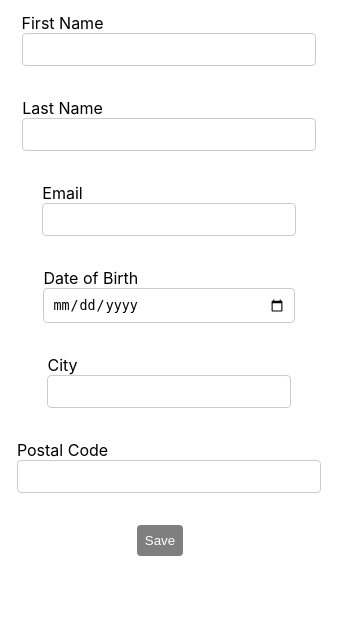
Test: RegistrationForm Component › affiche un message de succès après soumission réussie
In the field labelled "First Name": (169, 50) [22,33,316,66], type "John"
In the field labelled "Last Name": (169, 134) [22,118,316,151], type "Doe"
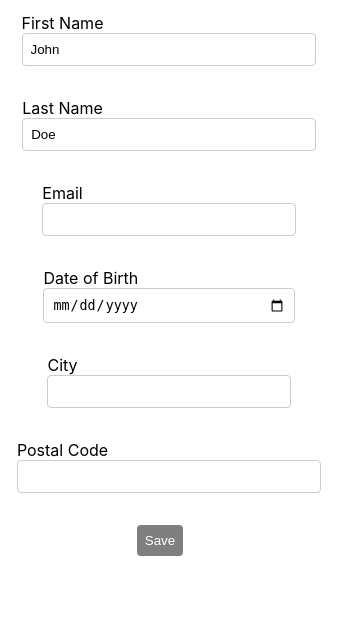
In the field labelled "Email": (169, 220) [42,203,296,236], type "john.doe@example.com"
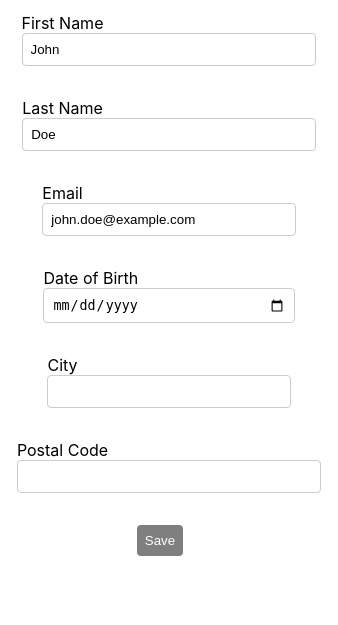
In the date field labelled "Date of Birth": (169, 306) [44,288,295,323], type "1990-01-01"
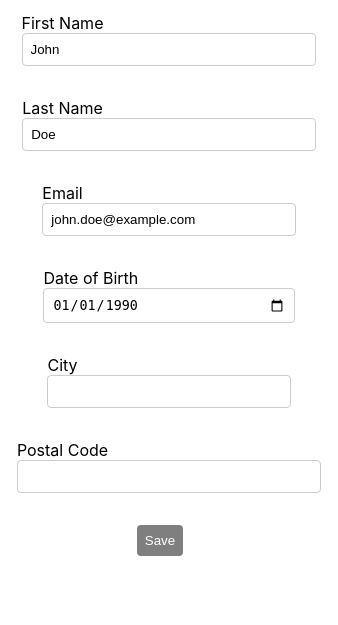
In the field labelled "City": (169, 392) [47,375,290,408], type "Paris"
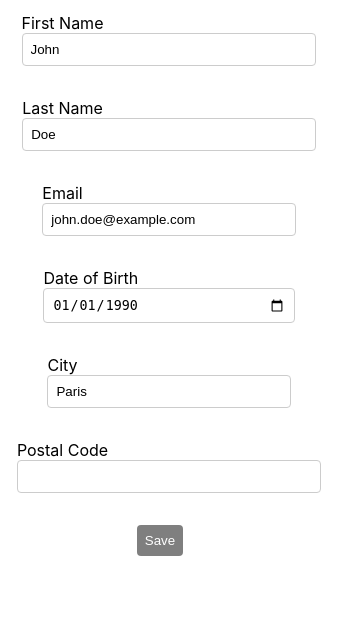
In the field labelled "Postal Code": (169, 477) [17,460,321,493], type "75000"
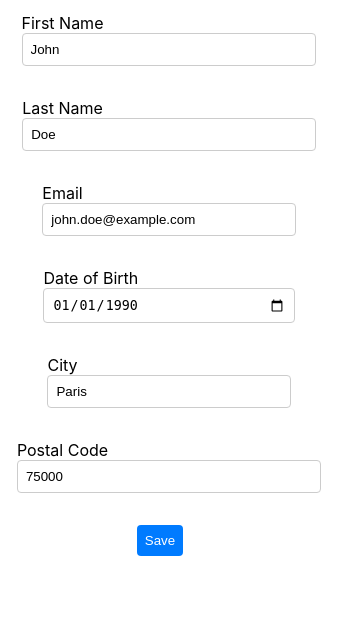
Click the button "Save": click(160, 541) [137,525,183,556]
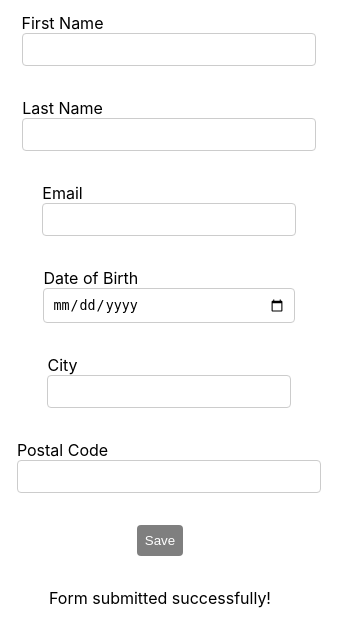
Now the text "Form submitted successfully!" is shown, box [49,588,271,608]
Now the field labelled "First Name" is empty, box [22,33,316,66]
